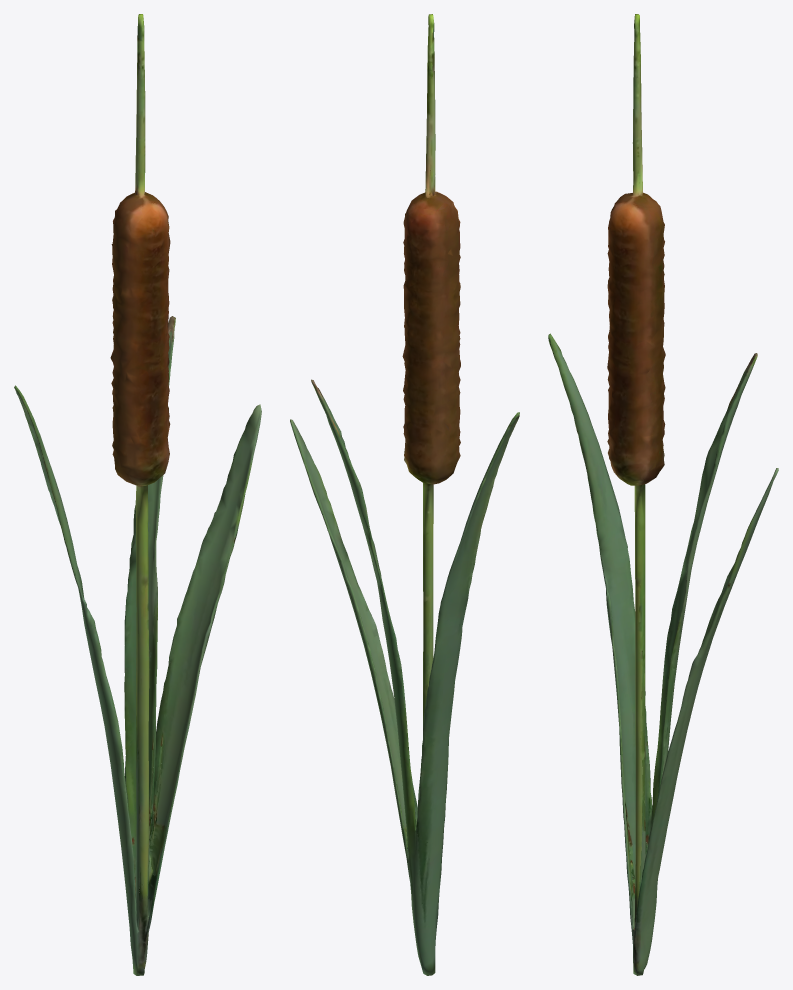
Rendered from plant_typha.glb.
The picture shows the model from 3 angles, left to right: view 1: azimuth 30°, elevation 25°; view 2: azimuth 150°, elevation 25°; view 3: azimuth 330°, elevation 25°; orthographic projection.
Parts seen in each view (by area): view 1: lo; view 2: lo; view 3: lo.
Boxes of the visible parts, bbox=[...] form: lo: bbox=[14, 14, 261, 975]; lo: bbox=[290, 14, 519, 975]; lo: bbox=[548, 14, 778, 975].
Bounding box in the file's own units: 0.5062 × 1.95 × 0.2192.
1 material, 1 textured.
